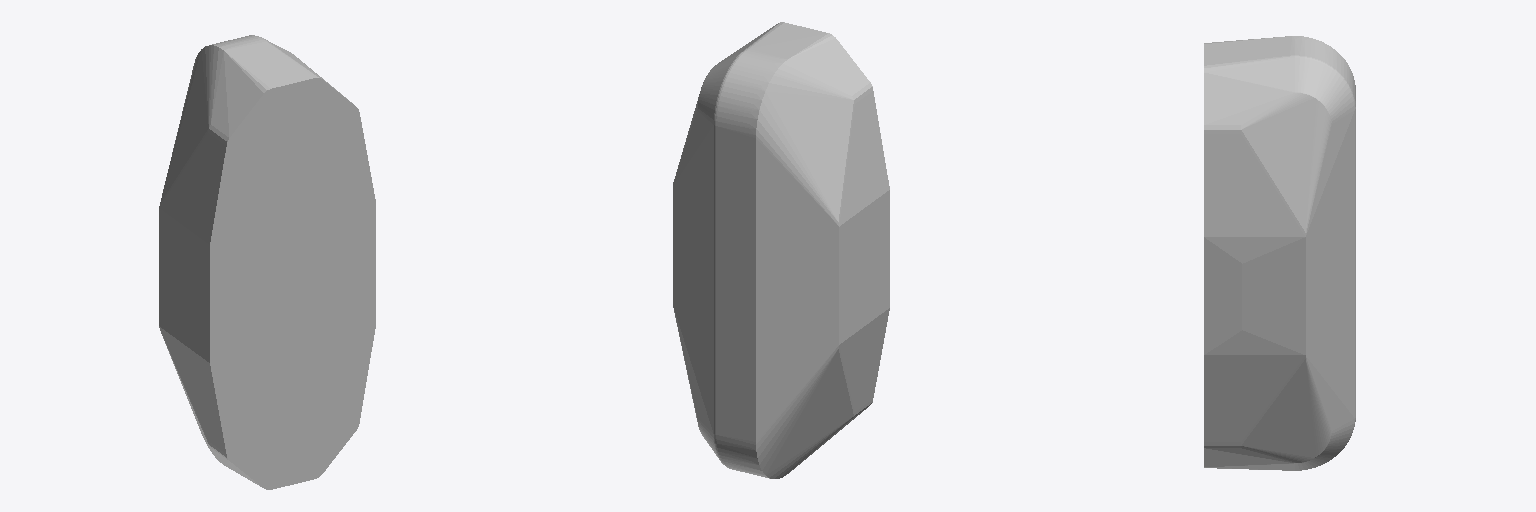
Rendered from body.obj.
3 renders of one model, left to right at view 1: azimuth 30°, elevation 25°; view 2: azimuth 150°, elevation 25°; view 3: azimuth 270°, elevation 25°, orthographic.
Parts seen in each view (by area): view 1: obj1; view 2: obj1; view 3: obj1.
Part boxes in pixels (x1,y1,x2,y2): obj1: (159,35,375,489); obj1: (673,22,889,478); obj1: (1204,36,1355,470).
Bounding box in the file's own units: 0.1665 × 0.393 × 0.1305.